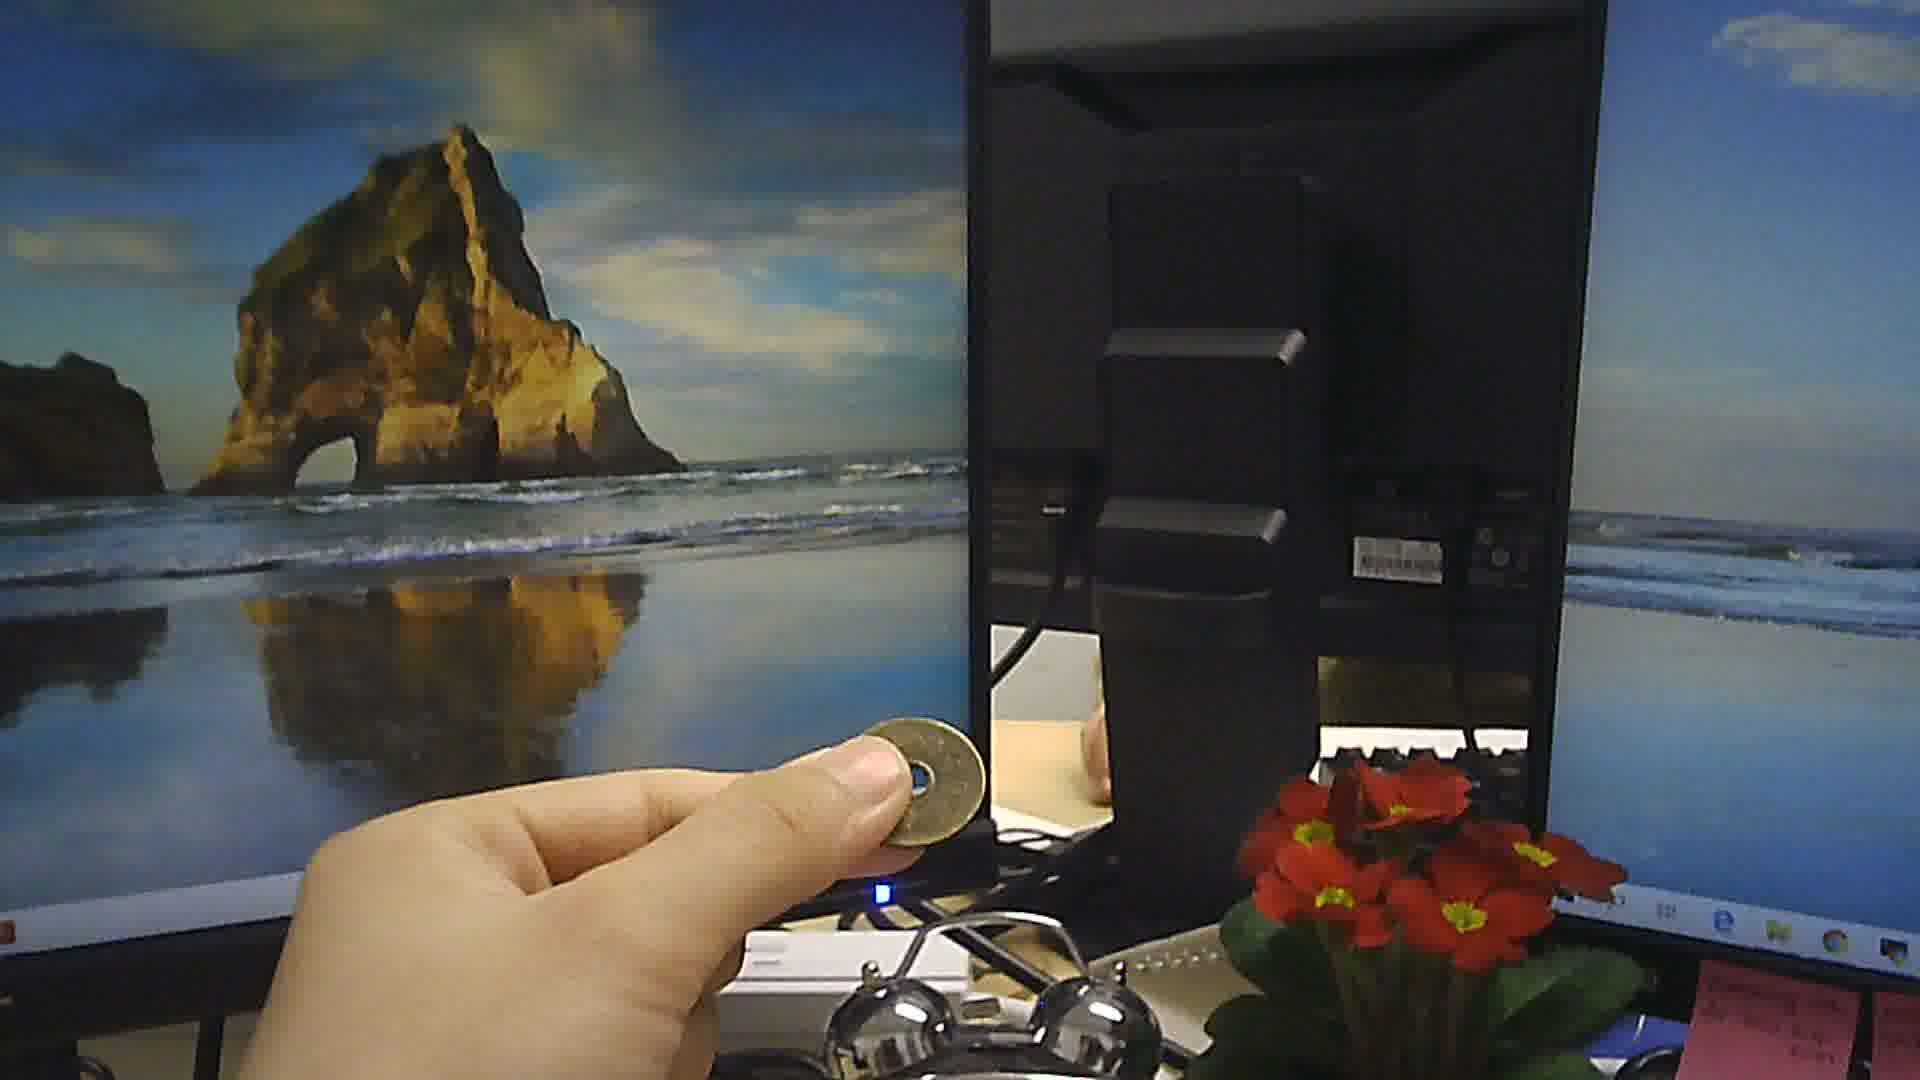5 Yen: (841, 712, 982, 843)
